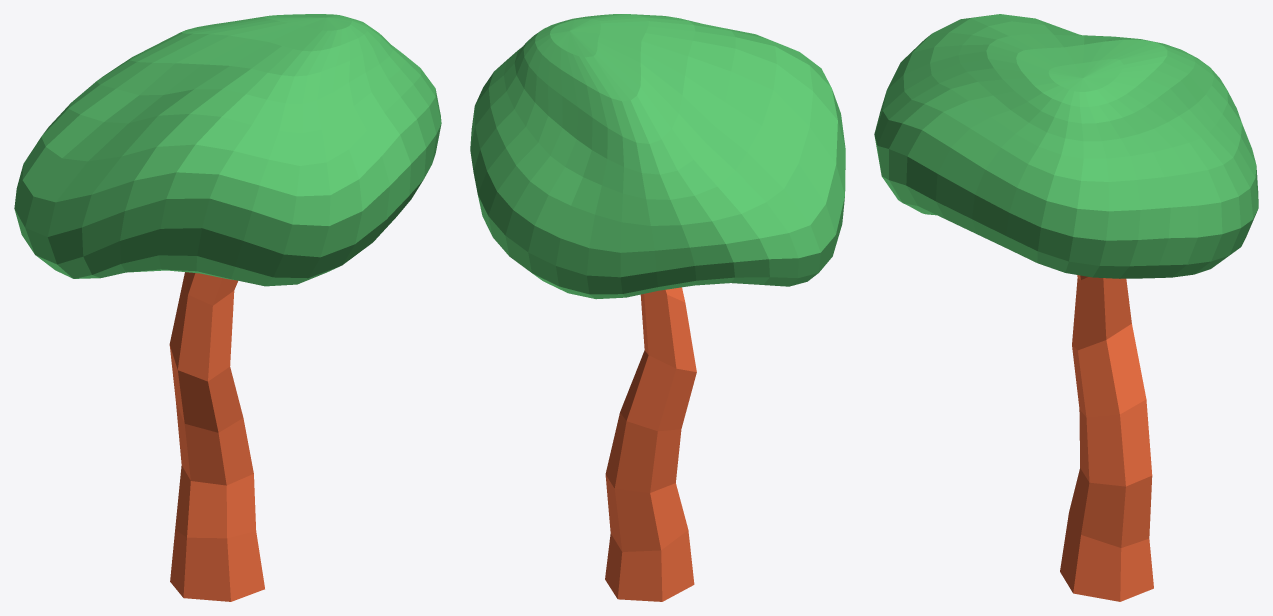
Rendered from Tree01.fbx.
The picture shows the model from 3 angles, left to right: view 1: azimuth 30°, elevation 25°; view 2: azimuth 150°, elevation 25°; view 3: azimuth 270°, elevation 25°; orthographic projection. The views are drawn at different scales.
Parts seen in each view (by area): view 1: Sphere.002; view 2: Sphere.002; view 3: Sphere.002.
Boxes of the visible parts, x1,y1,x2,y2 form: Sphere.002: (14,14,441,601); Sphere.002: (470,14,845,601); Sphere.002: (874,14,1258,601).
Size of the model in its own units: 2040 by 2849 by 1790.
